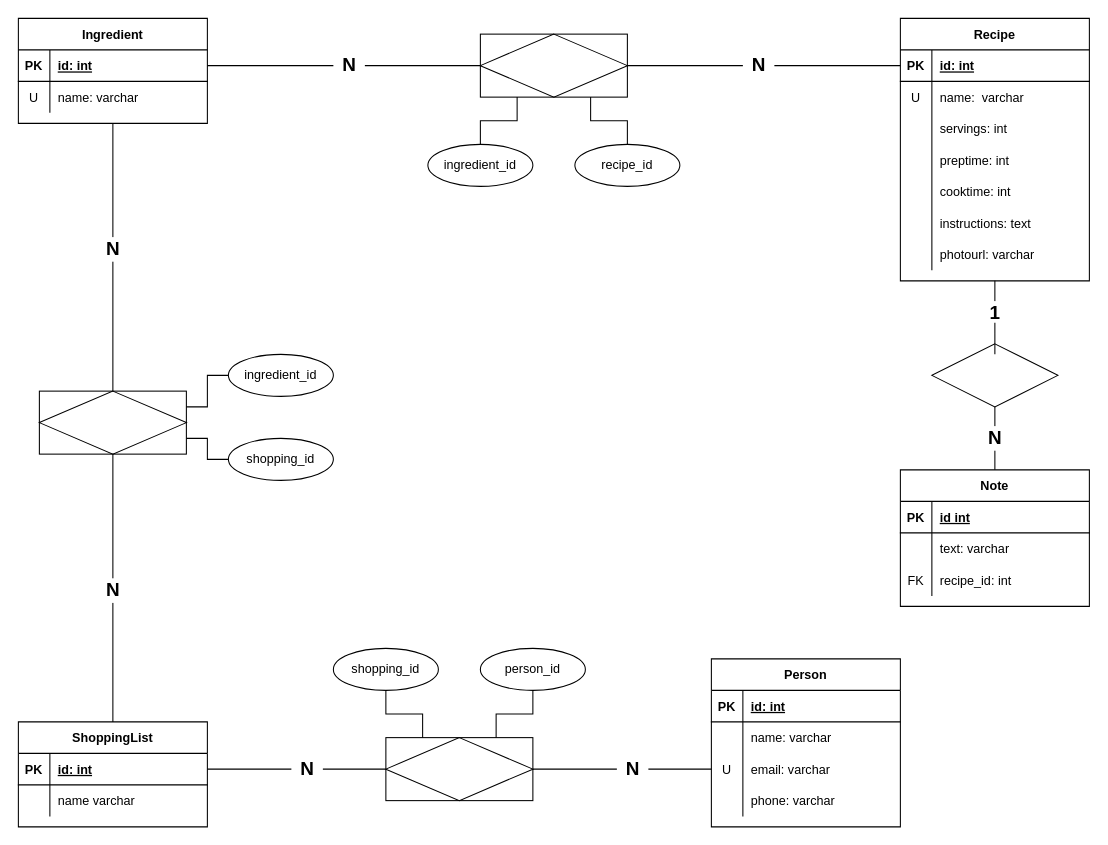
The diagram is 1108 pixels wide and 845 high, and some of its shapes have lost their labels. The centre of each missing label's shape, as x and y in pixels:
"Has" goes at [994,375].
"PeopleShoppingLists" goes at [459,769].
"RecipeIngredients" goes at [553,65].
"ShoppingIngredients" goes at [112,422].
